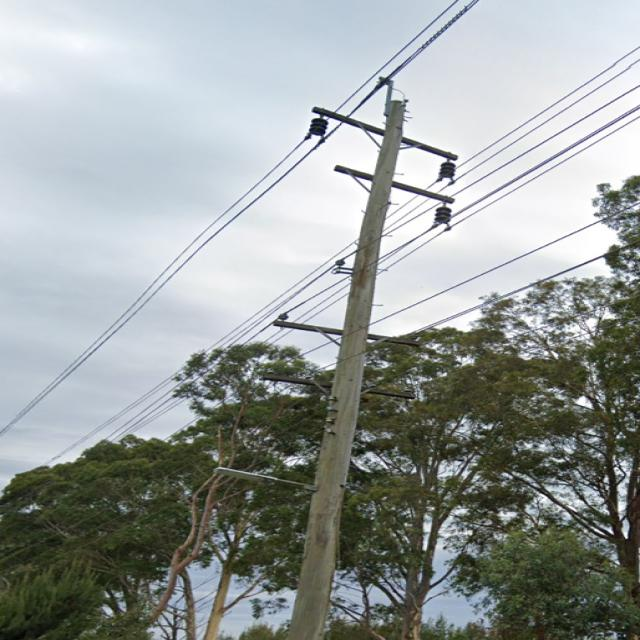HV-transmission: (302, 76, 459, 232)
crossarm: (311, 106, 458, 160), (334, 165, 456, 204), (259, 371, 412, 400), (272, 320, 417, 344)
streetlight: (210, 463, 308, 492)
timber-pole: (285, 98, 407, 639)
